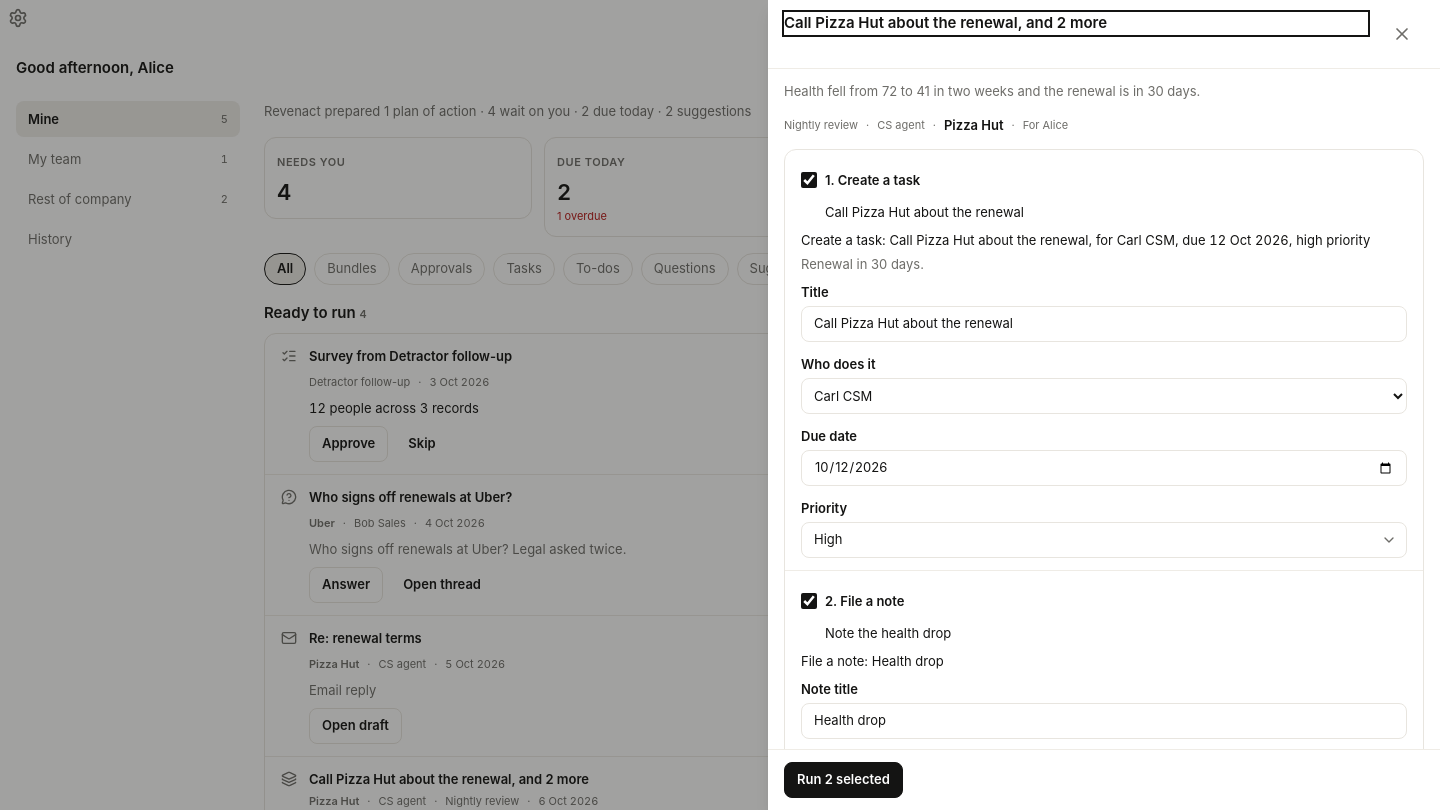
Scenario: Bundle panel (spec §8.2; frontend Decisions 5 to 11) › names nothing once a run finds the bundle gone: no title, no record, no Run
Expected: the field labelled "Title" is shown, [801,306,1407,342]
Click the button "Run 2 selected" at (843, 780), box [784,762,903,798]
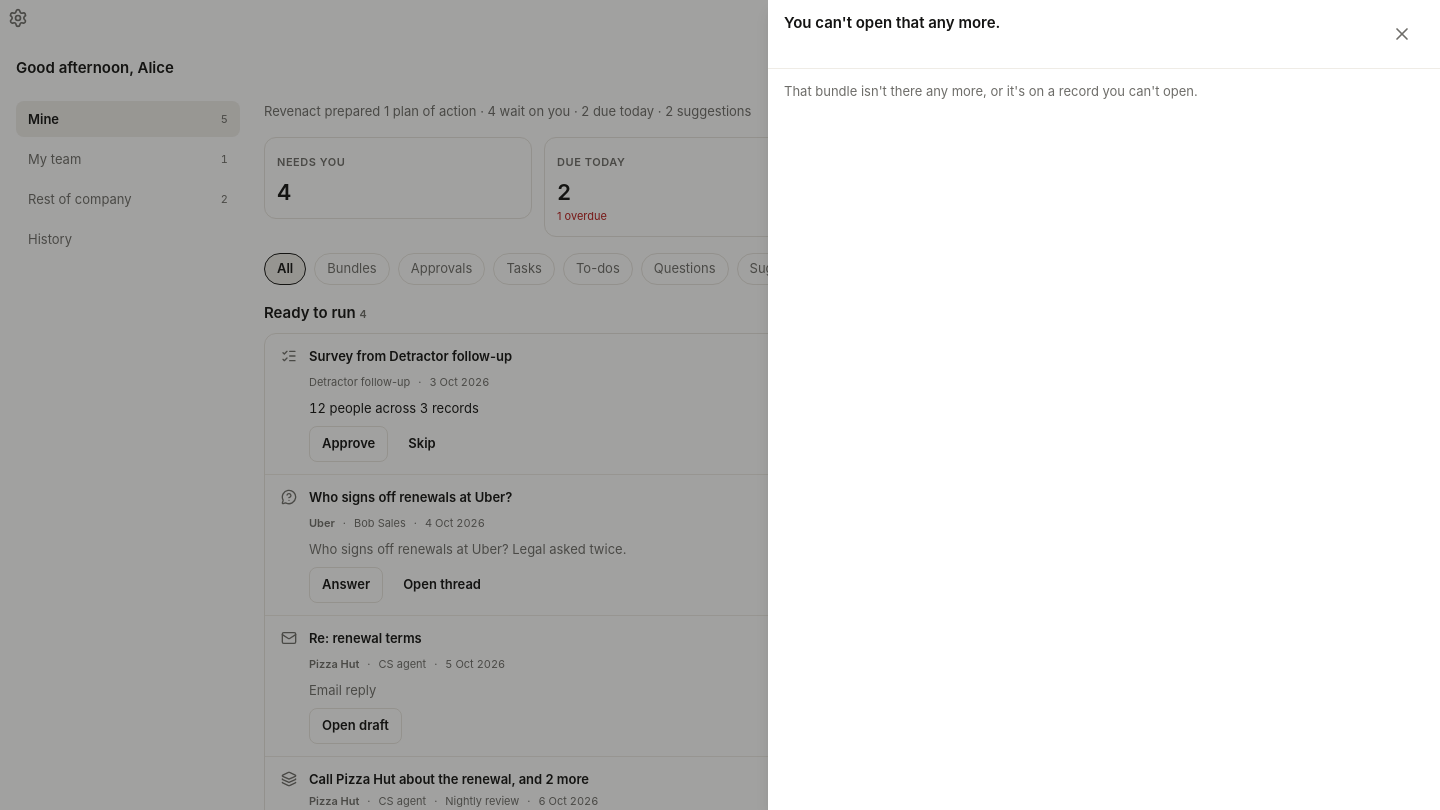
Expected: the dialog "You can't open that any more." does not show "Call Pizza Hut about the renewal, and 2 more"
Now the text "That bundle isn't there any more, or it's on a record you can't open." is shown, box [784,83,1198,99]
